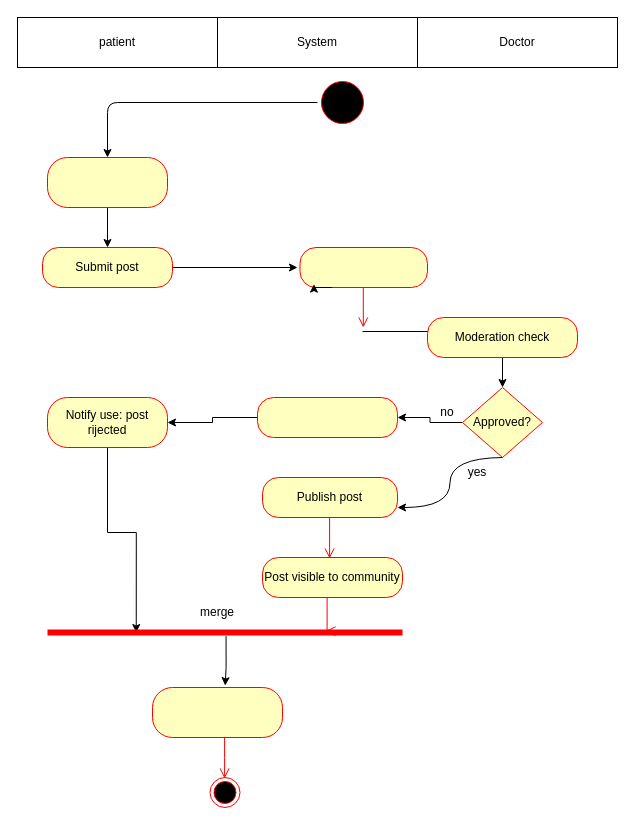
The diagram is 635 pixels wide and 825 high, and some of its shapes have lost their labels. Each missing label, with the centre of its shape:
"Create anonymous post" belongs at pixel 107 182.
"Log activity" belongs at pixel 217 712.
"Receive & quest post" belongs at pixel 363 267.
"Reject content" belongs at pixel 327 417.
